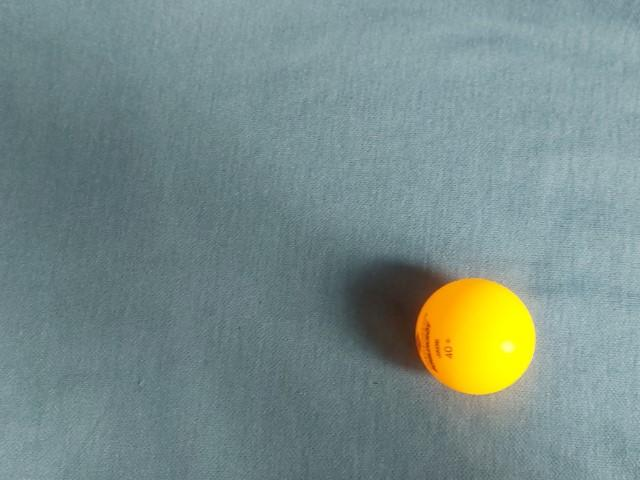oball: (98, 79, 230, 206)
